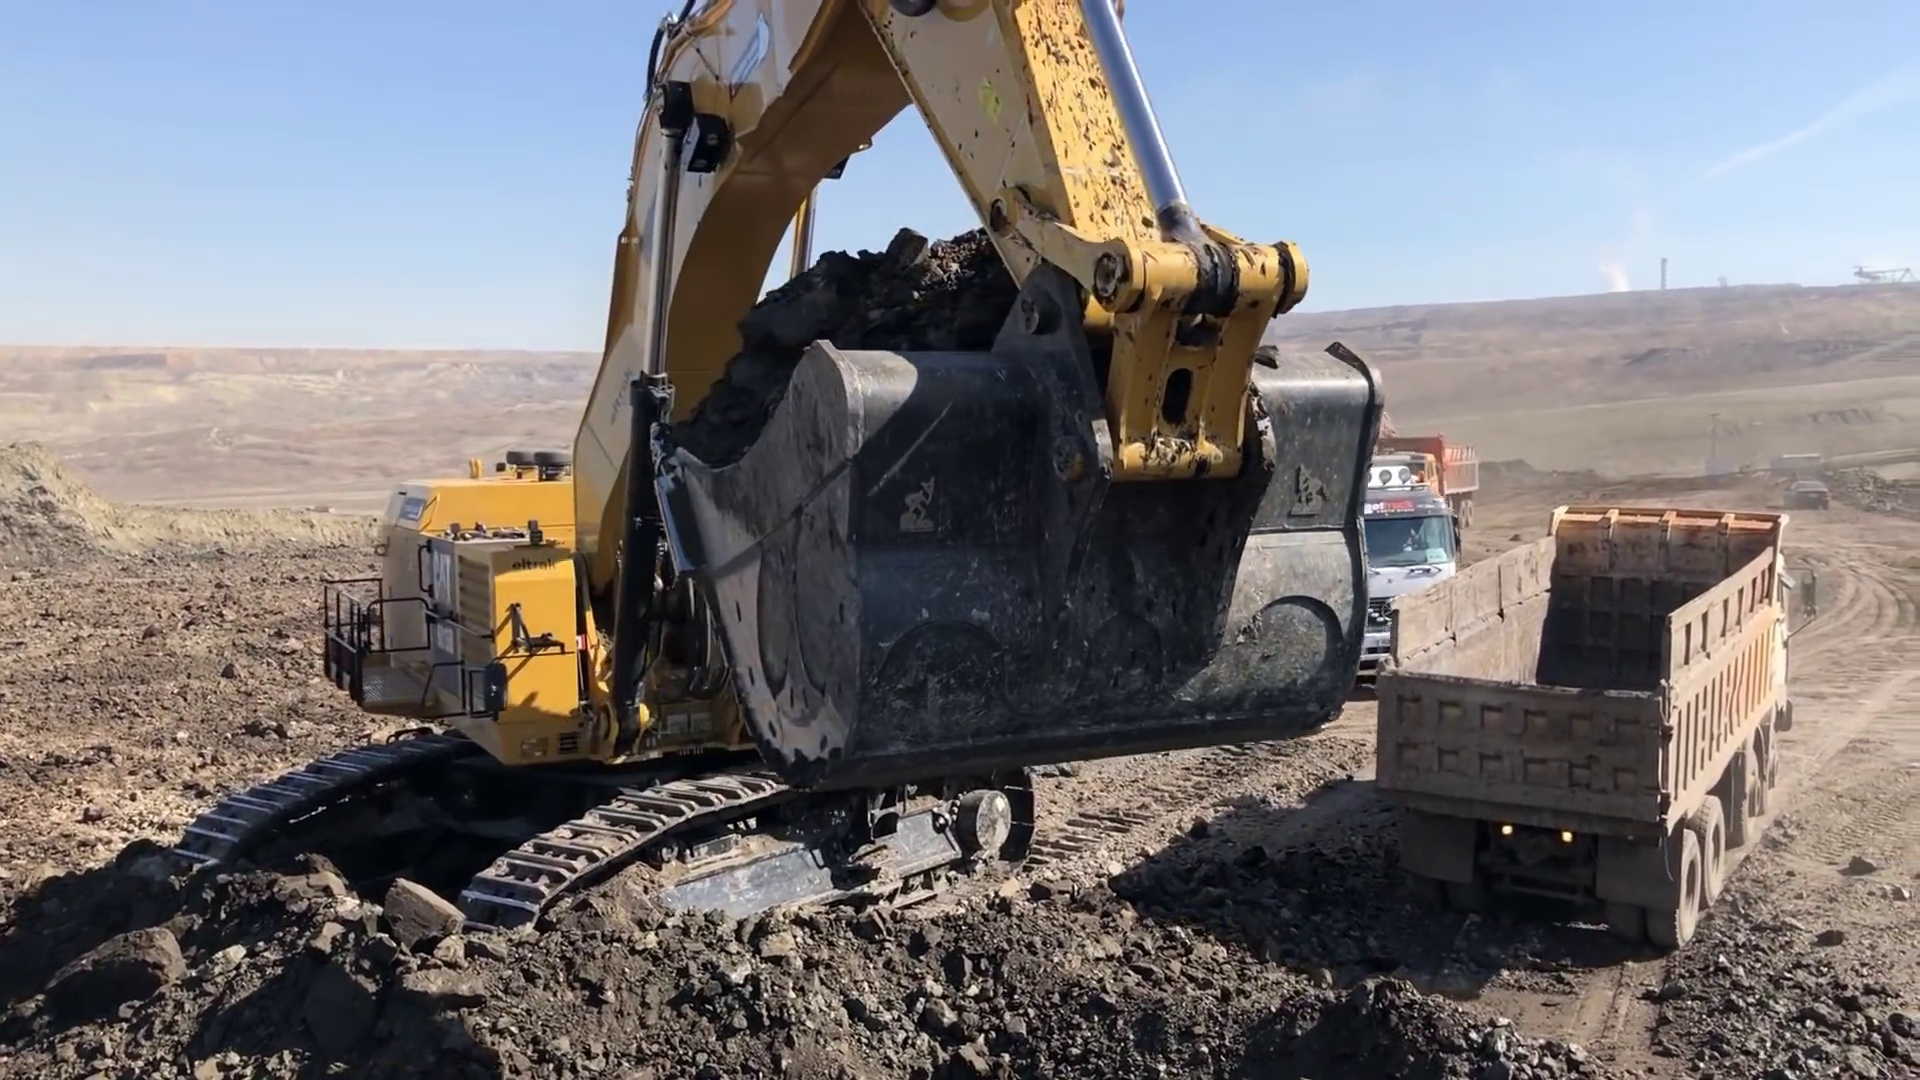excavator: (174, 1, 1382, 968)
truck: (1385, 501, 1796, 957), (1337, 429, 1480, 694)
